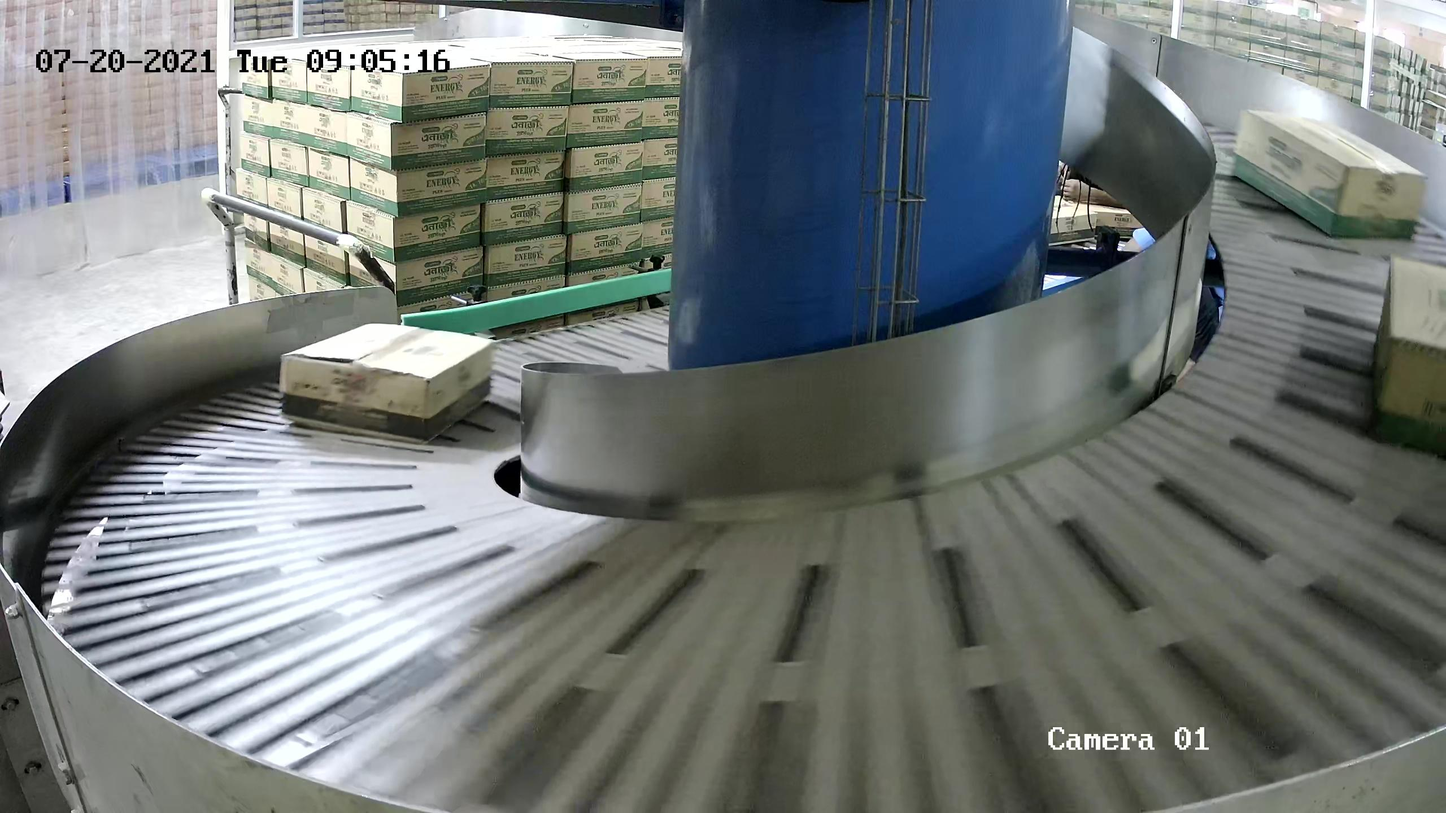Box: (279, 322, 495, 447), (1229, 107, 1428, 240), (1369, 252, 1446, 452)
